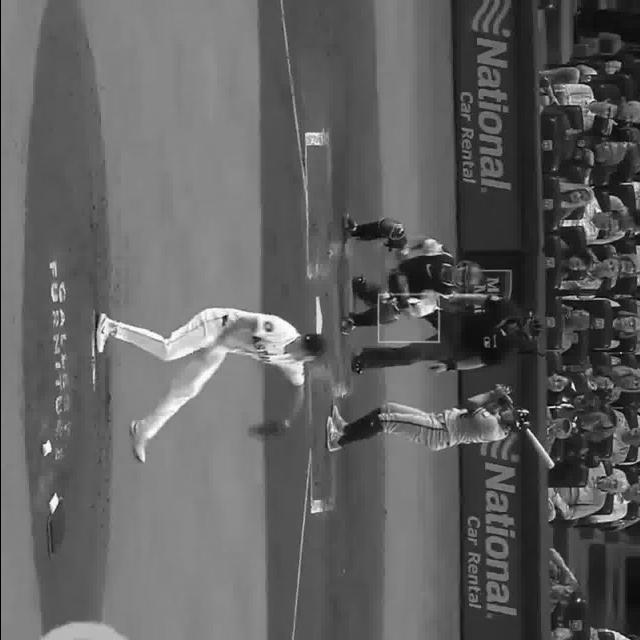base: (312, 292, 324, 336)
baseball_glove: (352, 278, 394, 308), (250, 420, 290, 442)
bat: (494, 384, 558, 473)
shoe: (125, 422, 148, 460), (94, 308, 112, 352), (322, 419, 344, 452), (330, 406, 348, 434), (342, 210, 358, 240), (341, 317, 355, 338)
